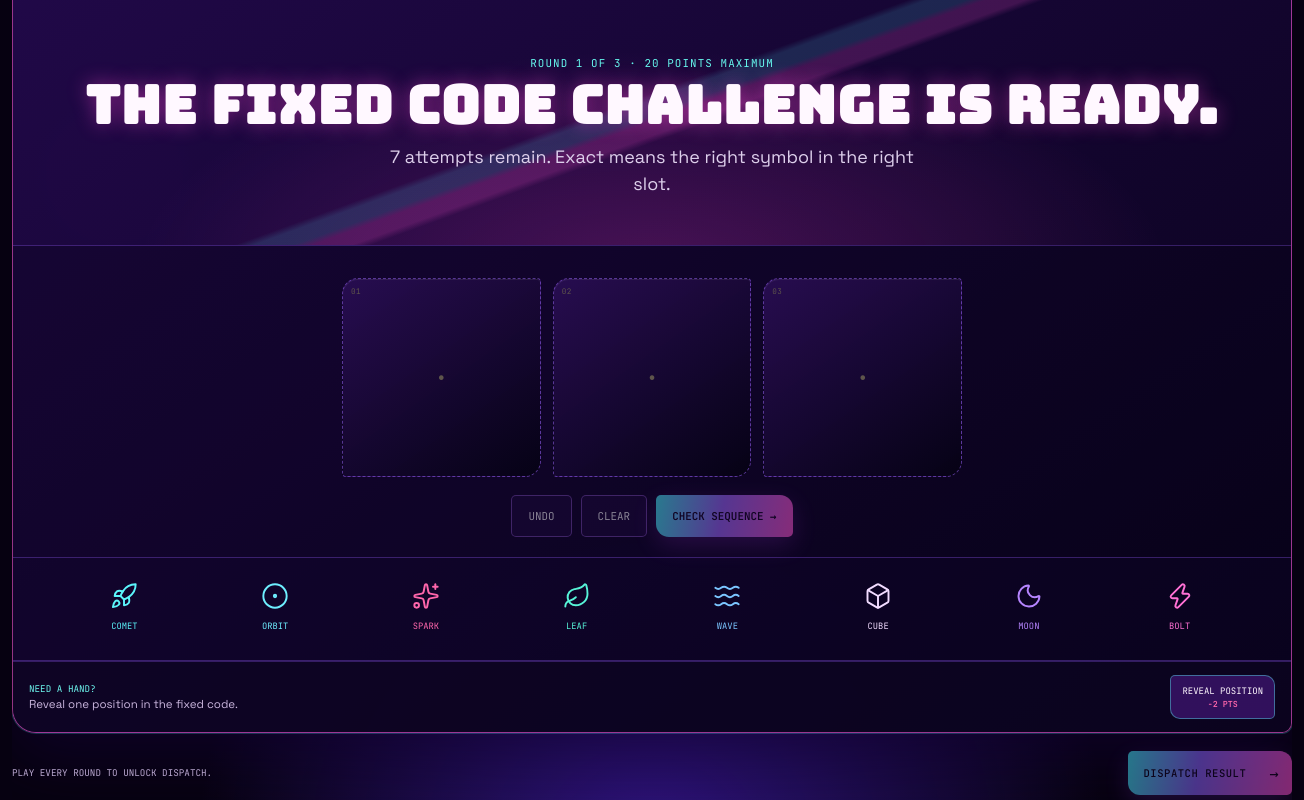
Test case: code-breaker game › shows a server-provided hint returned by the endpoint
(page scrolled)
Expected: the button with aria-label "Add Comet" is enabled, [49,573,200,645]
Click the button "Reveal position −2 pts" at (1223, 697), box [1170,675,1275,719]
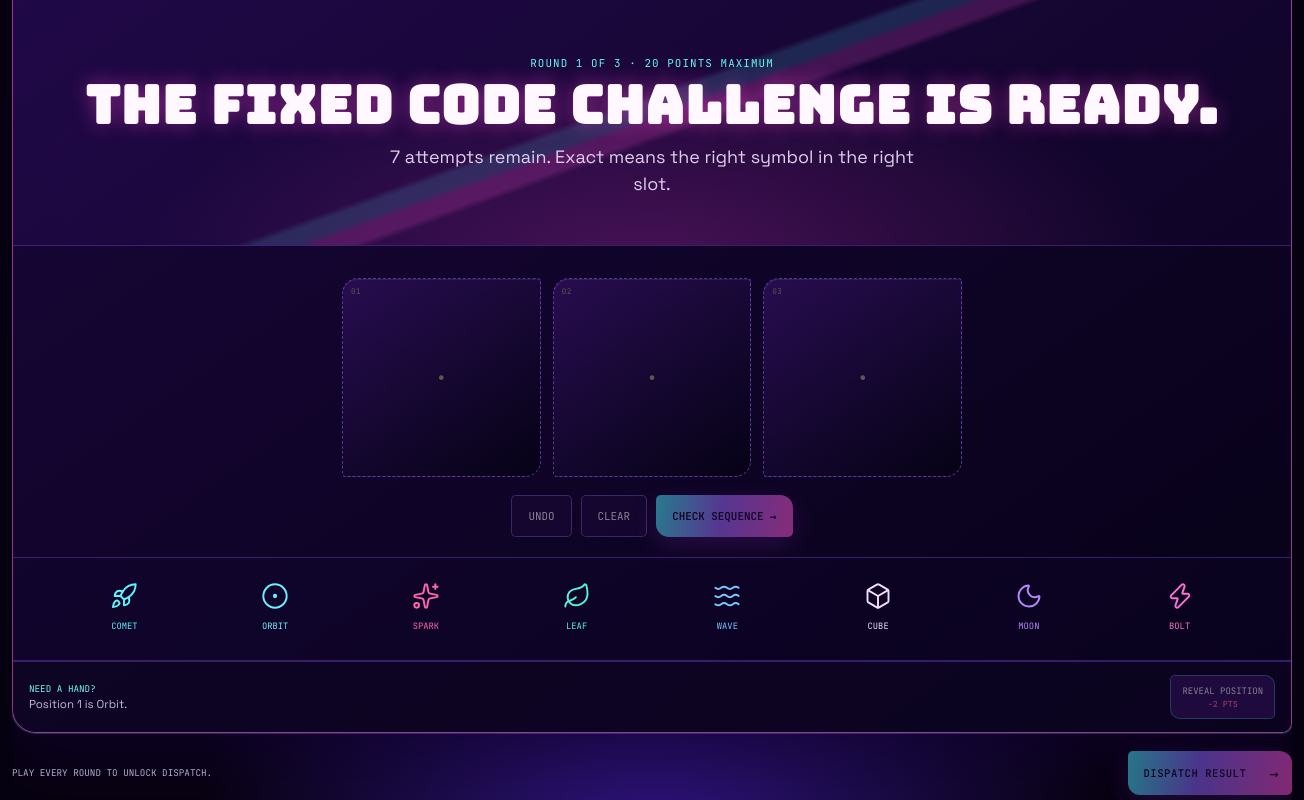
Expected: the text "Position 1 is Orbit." is shown, [29,697,127,711]
